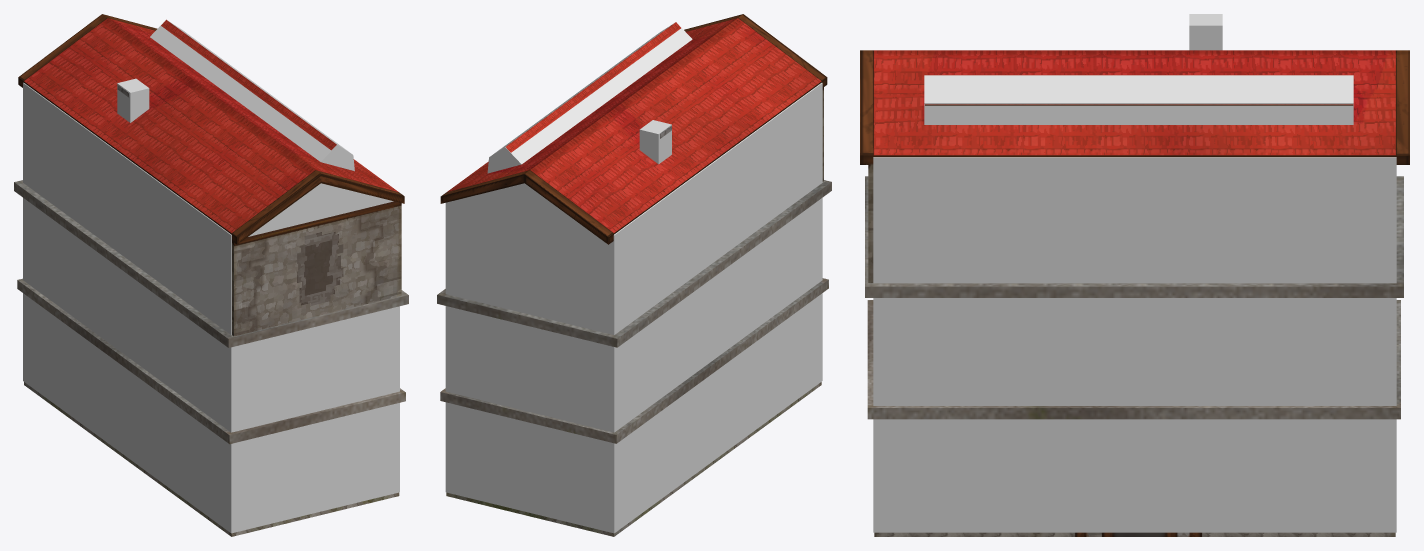
Rendered from Building_2_Col.fbx.
3 views of the same model, side by side, from view 1: azimuth 30°, elevation 25°; view 2: azimuth 150°, elevation 25°; view 3: azimuth 270°, elevation 25° (orthographic). The views are drawn at different scales.
Parts seen in each view (by area): view 1: Building_2_Col, Building2; view 2: Building_2_Col, Building2; view 3: Building_2_Col, Building2.
Boxes of the visible parts, bbox=[...] form: Building_2_Col: bbox=[23, 20, 399, 533]; Building2: bbox=[14, 14, 408, 536]; Building_2_Col: bbox=[445, 23, 822, 533]; Building2: bbox=[437, 14, 831, 536]; Building_2_Col: bbox=[873, 14, 1396, 532]; Building2: bbox=[860, 50, 1409, 536].
Size of the model in its own units: 214 by 393 by 449.
